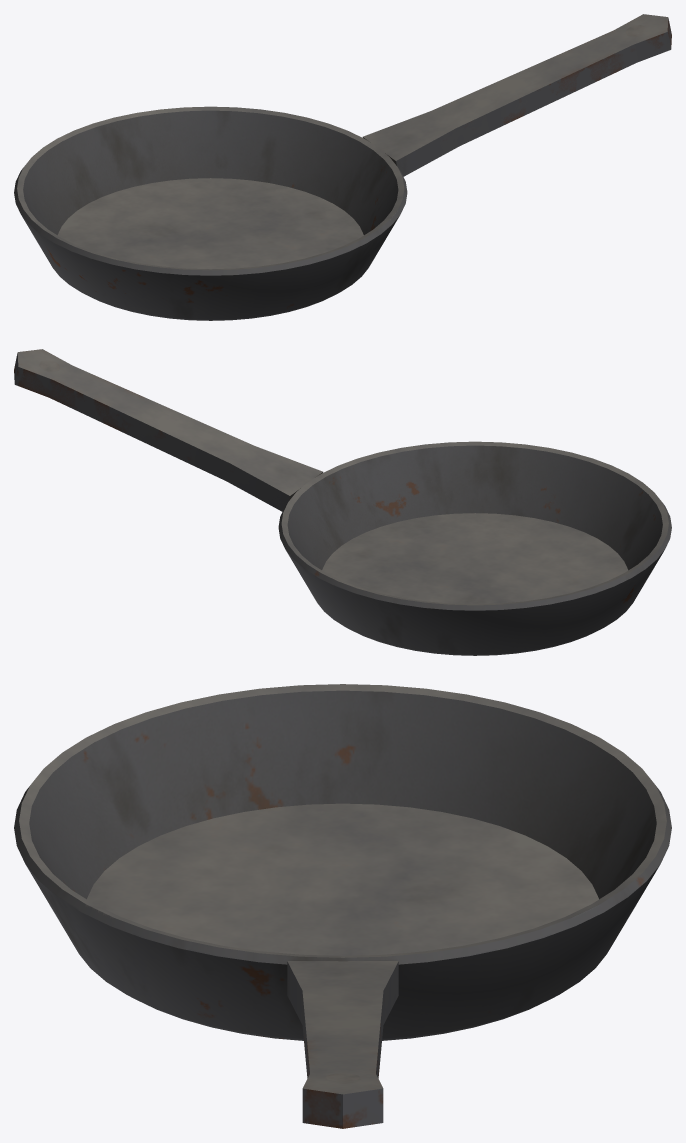
The model's file is SM_FryingPan_CastIron.fbx.
The picture shows the model from 3 angles, top to bottom: view 1: azimuth 30°, elevation 25°; view 2: azimuth 150°, elevation 25°; view 3: azimuth 270°, elevation 25°; orthographic projection. The views are drawn at different scales.
Visible parts, largest first — view 1: SM_FryingPan_CastIron; view 2: SM_FryingPan_CastIron; view 3: SM_FryingPan_CastIron.
Boxes of the visible parts, <box> form: SM_FryingPan_CastIron: <box>14,14,671,320</box>; SM_FryingPan_CastIron: <box>14,349,671,655</box>; SM_FryingPan_CastIron: <box>14,684,671,1128</box>.
Bounding box in the file's own units: 0.4819 × 0.0934 × 0.26.
1 material, 1 textured.
